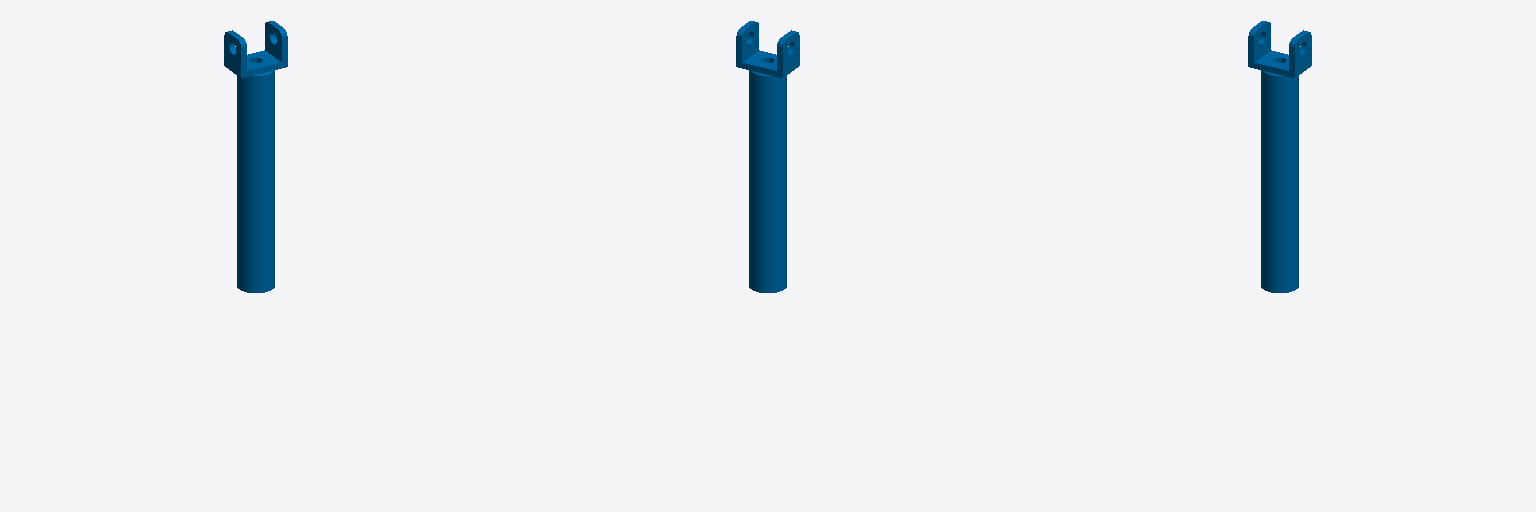
robot.urdf — sevenDOF:
<?xml version="1.0"?>

<robot name="sevenDOF">
  
  <!-- *************************************************** -->
  <!-- ******************** Kinematics ******************* -->
  <!-- *************************************************** -->

  <link name="world"/>

  <joint name="theta1" type="continuous">
    <parent link="world"/>
    <child  link="link1"/>
    <origin xyz="0 0 0.6" rpy="0 0 0"/>
    <axis   xyz="0 0 1"/>
    <dynamics damping="0.5"/>
  </joint>

  <link name="link1"/>

  <joint name="theta2" type="continuous">
    <parent link="link1"/>
    <child  link="link2"/>
    <origin xyz="0 0 0" rpy="0 0 0"/>
    <axis   xyz="1 0 0"/>
    <dynamics damping="1.0"/>
  </joint>

  <link name="link2"/>

  <joint name="attach-shoulder" type="fixed">
    <parent link="link2"/>
    <child  link="shoulder"/>
  </joint>

  <link name="shoulder"/>

  <joint name="theta3" type="continuous">
    <parent link="link2"/>
    <child  link="link3"/>
    <origin xyz="0 0.4 0" rpy="0 0 0"/>
    <axis   xyz="0 1 0 "/>
    <dynamics damping="0.05"/>
  </joint>

  <link name="link3"/>

  <joint name="theta4" type="continuous">
    <parent link="link3"/>
    <child  link="link4"/>
    <origin xyz="0 0 0" rpy="0 0 0"/>
    <axis   xyz="1 0 0 "/>
    <dynamics damping="0.1"/>
  </joint>

  <link name="link4"/>

  <joint name="attach-elbow" type="fixed">
    <parent link="link4"/>
    <child  link="elbow"/>
  </joint>

  <link name="elbow"/>

  <joint name="theta5" type="continuous">
    <parent link="link4"/>
    <child  link="link5"/>
    <origin xyz="0 0.4 0" rpy="0 0 0"/>
    <axis   xyz="0 1 0"/>
    <dynamics damping="0.02"/>
  </joint>

  <link name="link5"/>

  <joint name="theta6" type="continuous">
    <parent link="link5"/>
    <child  link="link6"/>
    <origin xyz="0 0 0" rpy="0 0 0"/>
    <axis   xyz="0 0 1"/>
    <dynamics damping="0.02"/>
  </joint>

  <link name="link6"/>

  <joint name="theta7" type="continuous">
    <parent link="link6"/>
    <child  link="link7"/>
    <origin xyz="0 0 0" rpy="0 0 0"/>
    <axis   xyz="1 0 0"/>
    <dynamics damping="0.02"/>
  </joint>

  <link name="link7"/>

  <joint name="attach-wrist" type="fixed">
    <parent link="link7"/>
    <child  link="wrist"/>
  </joint>

  <link name="wrist"/>

  <joint name="final" type="fixed">
    <parent link="link7"/>
    <child  link="tip"/>
    <origin xyz="0 0.15 0" rpy="0 0 0"/>
  </joint>

  <link name="tip"/>


  <!-- *************************************************** -->
  <!-- ******************* RVIZ Colors ******************* -->
  <!-- *************************************************** -->

  <material name="white">    <color rgba="1.00 1.00 1.00 1"/>  </material>
  <material name="gray">     <color rgba="0.60 0.60 0.60 1"/>  </material>
  <material name="table">    <color rgba="0.85 0.77 0.77 1"/>  </material>
  <material name="black">    <color rgba="0.00 0.00 0.00 1"/>  </material>

  <material name="red">      <color rgba="1.00 0.00 0.00 1"/>  </material>
  <material name="green">    <color rgba="0.00 1.00 0.00 1"/>  </material>
  <material name="blue">     <color rgba="0.00 0.00 1.00 1"/>  </material>

  <material name="cyan">     <color rgba="0.00 1.00 1.00 1"/>  </material>
  <material name="magenta">  <color rgba="1.00 0.00 1.00 1"/>  </material>
  <material name="yellow">   <color rgba="1.00 1.00 0.00 1"/>  </material>

  <material name="orange">   <color rgba="1.00 0.65 0.00 1"/>  </material>


  <!-- *************************************************** -->
  <!-- ****** Building Blocks (Visual AND Inertial) ****** -->
  <!-- *************************************************** -->

  <!-- *** World-Fixed: Mount 1, Motor 1 *** -->

  <joint name="attach-mount1" type="fixed">
    <parent link="world"/>
    <child  link="mount1"/>
  </joint>

  <link name="mount1">
    <visual>
      <origin rpy="0 0 0" xyz="0.15 0 0.35"/>
      <geometry>
        <mesh filename="package://hw7code/meshes/Slider_Shaft.stl"/>
      </geometry>
    </visual>
    <collision>
      <origin xyz="0 0 0.1" rpy="0 0 0"/>
      <geometry>
	<cylinder length="0.2" radius="0.02"/>
      </geometry>
    </collision>
    <inertial>
      <origin xyz="0 0 0.1" rpy="0 0 0"/>
      <mass value="0.2"/>
      <inertia
        ixx="0.000687" ixy="0.0" ixz="0.0"
        iyy="0.000687" iyz="0.0"
        izz="0.000040"/>
    </inertial>
  </link>

  <joint name="attach-motor1" type="fixed">
    <parent link="world"/>
    <child  link="motor1"/>
  </joint>
  <link name="motor1">
    <visual>
      <origin xyz="0 0 0.3" rpy="0 0 0"/>
      <geometry>
	<cylinder length="0.2" radius="0.05"/>
      </geometry>
      <material name="gray"/>
    </visual>
    <collision>
      <origin xyz="0 0 0.3" rpy="0 0 0"/>
      <geometry>
	<cylinder length="0.2" radius="0.05"/>
      </geometry>
    </collision>
    <inertial>
      <origin xyz="0 0 0.3" rpy="0 0 0"/>
      <mass value="2.0"/>
      <inertia
        ixx="0.007917" ixy="0.0" ixz="0.0"
        iyy="0.007917" iyz="0.0"
        izz="0.002500"/>
    </inertial>
  </link>

  <!-- *** Motor 1 Output: Mount 2, Motor 2 *** -->

  <joint name="attach-mount2" type="fixed">
    <parent link="link1"/>
    <child  link="mount2"/>
  </joint>
  <link name="mount2">
    <visual>
      <origin xyz="0 0 -0.1" rpy="0 0 0"/>
      <geometry>
	<cylinder length="0.2" radius="0.02"/>
      </geometry>
      <material name="black"/>
    </visual>
    <collision>
      <origin xyz="0 0 -0.1" rpy="0 0 0"/>
      <geometry>
	<cylinder length="0.2" radius="0.02"/>
      </geometry>
    </collision>
    <inertial>
      <origin xyz="0 0 -0.1" rpy="0 0 0"/>
      <mass value="0.2"/>
      <inertia
        ixx="0.000687" ixy="0.0" ixz="0.0"
        iyy="0.000687" iyz="0.0"
        izz="0.000040"/>
    </inertial>
  </link>

  <joint name="attach-motor2" type="fixed">
    <parent link="link1"/>
    <child  link="motor2"/>
  </joint>
  <link name="motor2">
    <visual>
      <origin xyz="0 0 0" rpy="0 1.5708 0"/>
      <geometry>
	<cylinder length="0.2" radius="0.05"/>
      </geometry>
      <material name="gray"/>
    </visual>
    <collision>
      <origin xyz="0 0 0" rpy="0 1.5708 0"/>
      <geometry>
	<cylinder length="0.2" radius="0.05"/>
      </geometry>
    </collision>
    <inertial>
      <origin xyz="0 0 0" rpy="0 1.5708 0"/>
      <mass value="2.0"/>
      <inertia
        ixx="0.007917" ixy="0.0" ixz="0.0"
        iyy="0.007917" iyz="0.0"
        izz="0.002500"/>
    </inertial>
  </link>

  <!-- *** Motor 2 Output: Mount 3, Motor 3 *** -->

  <joint name="attach-mount3" type="fixed">
    <parent link="link2"/>
    <child  link="mount3"/>
  </joint>
  <link name="mount3">
    <visual>
      <origin xyz="0 0.1 0" rpy="1.5708 0 0"/>
      <geometry>
	<cylinder length="0.2" radius="0.02"/>
      </geometry>
      <material name="black"/>
    </visual>
    <collision>
      <origin xyz="0 0.1 0" rpy="1.5708 0 0"/>
      <geometry>
	<cylinder length="0.2" radius="0.02"/>
      </geometry>
    </collision>
    <inertial>
      <origin xyz="0 0.1 0" rpy="1.5708 0 0"/>
      <mass value="0.2"/>
      <inertia
        ixx="0.000687" ixy="0.0" ixz="0.0"
        iyy="0.000687" iyz="0.0"
        izz="0.000040"/>
    </inertial>
  </link>

  <joint name="attach-motor3" type="fixed">
    <parent link="link2"/>
    <child  link="motor3"/>
  </joint>
  <link name="motor3">
    <visual>
      <origin xyz="0 0.2 0" rpy="1.5708 0 0"/>
      <geometry>
	<cylinder length="0.2" radius="0.05"/>
      </geometry>
      <material name="gray"/>
    </visual>
    <collision>
      <origin xyz="0 0.2 0" rpy="1.5708 0 0"/>
      <geometry>
	<cylinder length="0.2" radius="0.05"/>
      </geometry>
    </collision>
    <inertial>
      <origin xyz="0 0.2 0" rpy="1.5708 0 0"/>
      <mass value="2.0"/>
      <inertia
        ixx="0.007917" ixy="0.0" ixz="0.0"
        iyy="0.007917" iyz="0.0"
        izz="0.002500"/>
    </inertial>
  </link>

  <!-- *** Motor 3 Output: Mount 4, Motor 4 *** -->

  <joint name="attach-mount4" type="fixed">
    <parent link="link3"/>
    <child  link="mount4"/>
  </joint>
  <link name="mount4">
    <visual>
      <origin xyz="0 -0.1 0" rpy="1.5708 0 0"/>
      <geometry>
	<cylinder length="0.2" radius="0.02"/>
      </geometry>
      <material name="black"/>
    </visual>
    <collision>
      <origin xyz="0 -0.1 0" rpy="1.5708 0 0"/>
      <geometry>
	<cylinder length="0.2" radius="0.02"/>
      </geometry>
    </collision>
    <inertial>
      <origin xyz="0 -0.1 0" rpy="1.5708 0 0"/>
      <mass value="0.2"/>
      <inertia
        ixx="0.000687" ixy="0.0" ixz="0.0"
        iyy="0.000687" iyz="0.0"
        izz="0.000040"/>
    </inertial>
  </link>

  <joint name="attach-motor4" type="fixed">
    <parent link="link3"/>
    <child  link="motor4"/>
  </joint>
  <link name="motor4">
    <visual>
      <origin xyz="0 0 0" rpy="0 1.5708 0"/>
      <geometry>
	<cylinder length="0.2" radius="0.05"/>
      </geometry>
      <material name="gray"/>
    </visual>
    <collision>
      <origin xyz="0 0 0" rpy="0 1.5708 0"/>
      <geometry>
	<cylinder length="0.2" radius="0.05"/>
      </geometry>
    </collision>
    <inertial>
      <origin xyz="0 0 0" rpy="0 1.5708 0"/>
      <mass value="2.0"/>
      <inertia
        ixx="0.007917" ixy="0.0" ixz="0.0"
        iyy="0.007917" iyz="0.0"
        izz="0.002500"/>
    </inertial>
  </link>

  <!-- *** Motor 4 Output: Mount 5, Motor 5 *** -->

  <joint name="attach-mount5" type="fixed">
    <parent link="link4"/>
    <child  link="mount5"/>
  </joint>
  <link name="mount5">
    <visual>
      <origin xyz="0 0.1 0" rpy="1.5708 0 0"/>
      <geometry>
	<cylinder length="0.2" radius="0.02"/>
      </geometry>
      <material name="black"/>
    </visual>
    <collision>
      <origin xyz="0 0.1 0" rpy="1.5708 0 0"/>
      <geometry>
	<cylinder length="0.2" radius="0.02"/>
      </geometry>
    </collision>
    <inertial>
      <origin xyz="0 0.1 0" rpy="1.5708 0 0"/>
      <mass value="0.2"/>
      <inertia
        ixx="0.000687" ixy="0.0" ixz="0.0"
        iyy="0.000687" iyz="0.0"
        izz="0.000040"/>
    </inertial>
  </link>

  <joint name="attach-motor5" type="fixed">
    <parent link="link4"/>
    <child  link="motor5"/>
  </joint>
  <link name="motor5">
    <visual>
      <origin xyz="0 0.2 0" rpy="1.5708 0 0"/>
      <geometry>
	<cylinder length="0.1" radius="0.025"/>
      </geometry>
      <material name="gray"/>
    </visual>
    <collision>
      <origin xyz="0 0.2 0" rpy="1.5708 0 0"/>
      <geometry>
	<cylinder length="0.1" radius="0.025"/>
      </geometry>
    </collision>
    <inertial>
      <origin xyz="0 0.2 0" rpy="1.5708 0 0"/>
      <mass value="1.0"/>
      <inertia
        ixx="0.000990" ixy="0.0" ixz="0.0"
        iyy="0.000990" iyz="0.0"
        izz="0.000313"/>
    </inertial>
  </link>

  <!-- *** Motor 5 Output: Mount 6, Motor 6 *** -->

  <joint name="attach-mount6" type="fixed">
    <parent link="link5"/>
    <child  link="mount6"/>
  </joint>
  <link name="mount6">
    <visual>
      <origin xyz="0 -0.1 0" rpy="1.5708 0 0"/>
      <geometry>
	<cylinder length="0.2" radius="0.01"/>
      </geometry>
      <material name="black"/>
    </visual>
    <collision>
      <origin xyz="0 -0.1 0" rpy="1.5708 0 0"/>
      <geometry>
	<cylinder length="0.2" radius="0.01"/>
      </geometry>
    </collision>
    <inertial>
      <origin xyz="0 -0.1 0" rpy="1.5708 0 0"/>
      <mass value="0.1"/>
      <inertia
        ixx="0.000336" ixy="0.0" ixz="0.0"
        iyy="0.000336" iyz="0.0"
        izz="0.000005"/>
    </inertial>
  </link>

  <joint name="attach-motor6" type="fixed">
    <parent link="link5"/>
    <child  link="motor6"/>
  </joint>
  <link name="motor6">
    <visual>
      <origin xyz="0 0 0" rpy="0 0 0"/>
      <geometry>
	<cylinder length="0.1" radius="0.025"/>
      </geometry>
      <material name="gray"/>
    </visual>
    <collision>
      <origin xyz="0 0 0" rpy="0 0 0"/>
      <geometry>
	<cylinder length="0.1" radius="0.025"/>
      </geometry>
    </collision>
    <inertial>
      <origin xyz="0 0 0" rpy="0 0 0"/>
      <mass value="1.0"/>
      <inertia
        ixx="0.000990" ixy="0.0" ixz="0.0"
        iyy="0.000990" iyz="0.0"
        izz="0.000313"/>
    </inertial>
  </link>

  <!-- *** Motor 6 Output: Motor 7 *** -->

  <joint name="attach-motor7" type="fixed">
    <parent link="link6"/>
    <child  link="motor7"/>
  </joint>
  <link name="motor7">
    <visual>
      <origin xyz="0 0 0" rpy="0 1.5708 0"/>
      <geometry>
	<cylinder length="0.1" radius="0.025"/>
      </geometry>
      <material name="gray"/>
    </visual>
    <collision>
      <origin xyz="0 0 0" rpy="0 1.5708 0"/>
      <geometry>
	<cylinder length="0.1" radius="0.025"/>
      </geometry>
    </collision>
    <inertial>
      <origin xyz="0 0 0" rpy="0 1.5708 0"/>
      <mass value="1.0"/>
      <inertia
        ixx="0.000990" ixy="0.0" ixz="0.0"
        iyy="0.000990" iyz="0.0"
        izz="0.000313"/>
    </inertial>
  </link>

  <!-- *** Motor 7 Output: Base, Palm, Fingers *** -->

  <joint name="attach-handbase" type="fixed">
    <parent link="link7"/>
    <child  link="handbase"/>
  </joint>
  <link name="handbase">
    <visual>
      <origin xyz="0 0.05 0" rpy="1.5708 0 0"/>
      <geometry>
	<cylinder length="0.1" radius="0.01"/>
      </geometry>
      <material name="black"/>
    </visual>
    <collision>
      <origin xyz="0 0.05 0" rpy="1.5708 0 0"/>
      <geometry>
	<cylinder length="0.1" radius="0.01"/>
      </geometry>
    </collision>
    <inertial>
      <origin xyz="0 0.05 0" rpy="1.5708 0 0"/>
      <mass value="0.05"/>
      <inertia
        ixx="0.000043" ixy="0.0" ixz="0.0"
        iyy="0.000043" iyz="0.0"
        izz="0.000003"/>
    </inertial>
  </link>

  <joint name="attach-palm" type="fixed">
    <parent link="link7"/>
    <child  link="palm"/>
  </joint>
  <link name="palm">
    <visual>
      <origin xyz="0 0.1 0" rpy="0 1.5708 0"/>
      <geometry>
	<cylinder length="0.1" radius="0.01"/>
      </geometry>
      <material name="black"/>
    </visual>
    <inertial>
      <origin xyz="0 0.1 0" rpy="0 1.5708 0"/>
      <mass value="0.05"/>
      <inertia
        ixx="0.000043" ixy="0.0" ixz="0.0"
        iyy="0.000043" iyz="0.0"
        izz="0.000003"/>
    </inertial>
  </link>

  <joint name="attach-leftfinger" type="fixed">
    <parent link="link7"/>
    <child  link="leftfinger"/>
  </joint>
  <link name="leftfinger">
    <visual>
      <origin xyz="-0.05 0.14 0" rpy="1.5708 0 0"/>
      <geometry>
	<cylinder length="0.08" radius="0.01"/>
      </geometry>
      <material name="black"/>
    </visual>
    <inertial>
      <origin xyz="-0.05 0.14 0" rpy="1.5708 0 0"/>
      <mass value="0.05"/>
      <inertia
        ixx="0.000022" ixy="0.0" ixz="0.0"
        iyy="0.000022" iyz="0.0"
        izz="0.000002"/>
    </inertial>
  </link>

  <joint name="attach-rightfinger" type="fixed">
    <parent link="link7"/>
    <child  link="rightfinger"/>
  </joint>
  <link name="rightfinger">
    <visual>
      <origin xyz="0.05 0.14 0" rpy="1.5708 0 0"/>
      <geometry>
	<cylinder length="0.08" radius="0.01"/>
      </geometry>
      <material name="black"/>
    </visual>
    <inertial>
      <origin xyz="0.05 0.14 0" rpy="1.5708 0 0"/>
      <mass value="0.05"/>
      <inertia
        ixx="0.000022" ixy="0.0" ixz="0.0"
        iyy="0.000022" iyz="0.0"
        izz="0.000002"/>
    </inertial>
  </link>

  <!-- *** Cube: Six sides *** -->

  <joint name="attach-cube" type="fixed">
    <parent link="tip"/>
    <child  link="cube"/>
  </joint>
  <link name="cube">
    <collision>
      <origin xyz="0 0 0" rpy="0 0 0"/>
      <geometry>
	<box size="0.10 0.10 0.10"/>
      </geometry>
    </collision>
    <inertial>
      <origin xyz="0 0 0" rpy="0 0 0"/>
      <mass value="1.0"/>
      <inertia
        ixx="0.000120" ixy="0.0" ixz="0.0"
        iyy="0.000120" iyz="0.0"
        izz="0.000120"/>
    </inertial>
  </link>

  <joint name="attach-cube-xp" type="fixed">
    <parent link="cube"/>
    <child  link="cube-xp"/>
  </joint>
  <link name="cube-xp">
    <visual>
      <origin         xyz=" 0.04   0    0"    rpy="0 0 0"/>
      <geometry> <box size="0.0202 0.09 0.09"/> </geometry>
      <material name="red"/>
    </visual>
  </link>

  <joint name="attach-cube-xm" type="fixed">
    <parent link="cube"/>
    <child  link="cube-xm"/>
  </joint>
  <link name="cube-xm">
    <visual>
      <origin         xyz="-0.04   0    0"    rpy="0 0 0"/>
      <geometry> <box size="0.0202 0.09 0.09"/> </geometry>
      <material name="cyan"/>
    </visual>
  </link>

  <joint name="attach-cube-yp" type="fixed">
    <parent link="cube"/>
    <child  link="cube-yp"/>
  </joint>
  <link name="cube-yp">
    <visual>
      <origin         xyz=" 0    0.04   0"    rpy="0 0 0"/>
      <geometry> <box size="0.09 0.0202 0.09"/> </geometry>
      <material name="green"/>
    </visual>
  </link>

  <joint name="attach-cube-ym" type="fixed">
    <parent link="cube"/>
    <child  link="cube-ym"/>
  </joint>
  <link name="cube-ym">
    <visual>
      <origin         xyz=" 0   -0.04   0"    rpy="0 0 0"/>
      <geometry> <box size="0.09 0.0202 0.09"/> </geometry>
      <material name="magenta"/>
    </visual>
  </link>

  <joint name="attach-cube-zp" type="fixed">
    <parent link="cube"/>
    <child  link="cube-zp"/>
  </joint>
  <link name="cube-zp">
    <visual>
      <origin         xyz=" 0    0    0.04"   rpy="0 0 0"/>
      <geometry> <box size="0.09 0.09 0.0202"/> </geometry>
      <material name="blue"/>
    </visual>
  </link>

  <joint name="attach-cube-zm" type="fixed">
    <parent link="cube"/>
    <child  link="cube-zm"/>
  </joint>
  <link name="cube-zm">
    <visual>
      <origin         xyz=" 0    0   -0.04"   rpy="0 0 0"/>
      <geometry> <box size="0.09 0.09 0.0202"/> </geometry>
      <material name="yellow"/>
    </visual>
  </link>


  <!-- *************************************************** -->
  <!-- ******************* Gazebo Colors ***************** -->
  <!-- *************************************************** -->

  <gazebo reference="motor1"> <material>Gazebo/Gray</material>  </gazebo>
  <gazebo reference="motor2"> <material>Gazebo/Gray</material>  </gazebo>
  <gazebo reference="motor3"> <material>Gazebo/Gray</material>  </gazebo>
  <gazebo reference="motor4"> <material>Gazebo/Gray</material>  </gazebo>
  <gazebo reference="motor5"> <material>Gazebo/Gray</material>  </gazebo>
  <gazebo reference="motor6"> <material>Gazebo/Gray</material>  </gazebo>
  <gazebo reference="motor7"> <material>Gazebo/Gray</material>  </gazebo>

  <gazebo reference="mount1">   <material>Gazebo/Black</material> </gazebo>
  <gazebo reference="mount2">   <material>Gazebo/Black</material> </gazebo>
  <gazebo reference="mount3">   <material>Gazebo/Black</material> </gazebo>
  <gazebo reference="mount4">   <material>Gazebo/Black</material> </gazebo>
  <gazebo reference="mount5">   <material>Gazebo/Black</material> </gazebo>
  <gazebo reference="mount6">   <material>Gazebo/Black</material> </gazebo>

  <gazebo reference="handbase">    <material>Gazebo/Black</material> </gazebo>
  <gazebo reference="palm">        <material>Gazebo/Black</material> </gazebo>
  <gazebo reference="leftfinger">  <material>Gazebo/Black</material> </gazebo>
  <gazebo reference="rightfinger"> <material>Gazebo/Black</material> </gazebo>

  <gazebo reference="cube-xp"> <material>Gazebo/Red</material>     </gazebo>
  <gazebo reference="cube-xm"> <material>Gazebo/Cyan</material>    </gazebo>
  <gazebo reference="cube-yp"> <material>Gazebo/Green</material>   </gazebo>
  <gazebo reference="cube-ym"> <material>Gazebo/Magenta</material> </gazebo>
  <gazebo reference="cube-zp"> <material>Gazebo/Blue</material>    </gazebo>
  <gazebo reference="cube-zm"> <material>Gazebo/Yellow</material>  </gazebo>


</robot>

--- Render facts (derived) ---
Views: 3 orthographic renders of the robot side by side, from view 1: azimuth 30°, elevation 25°; view 2: azimuth 150°, elevation 25°; view 3: azimuth 330°, elevation 25°.
Model sevenDOF with 36 links and 35 joints (7 continuous, 28 fixed), rooted at world, posed all joints at 0.
Links seen in each view (by area): view 1: mount1; view 2: mount1; view 3: mount1.
Link boxes in pixels (x1,y1,x2,y2): mount1: [224, 21, 287, 292]; mount1: [736, 21, 799, 292]; mount1: [1248, 21, 1311, 292].
Size in the robot's own frame: 400 by 290 by 3800 metres.
1 mesh visuals loaded from 1 distinct referenced files (1 binary STL).